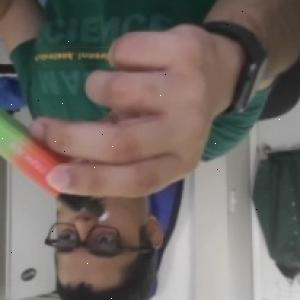Swift-E-Ciggirate: (0, 106, 120, 230)
